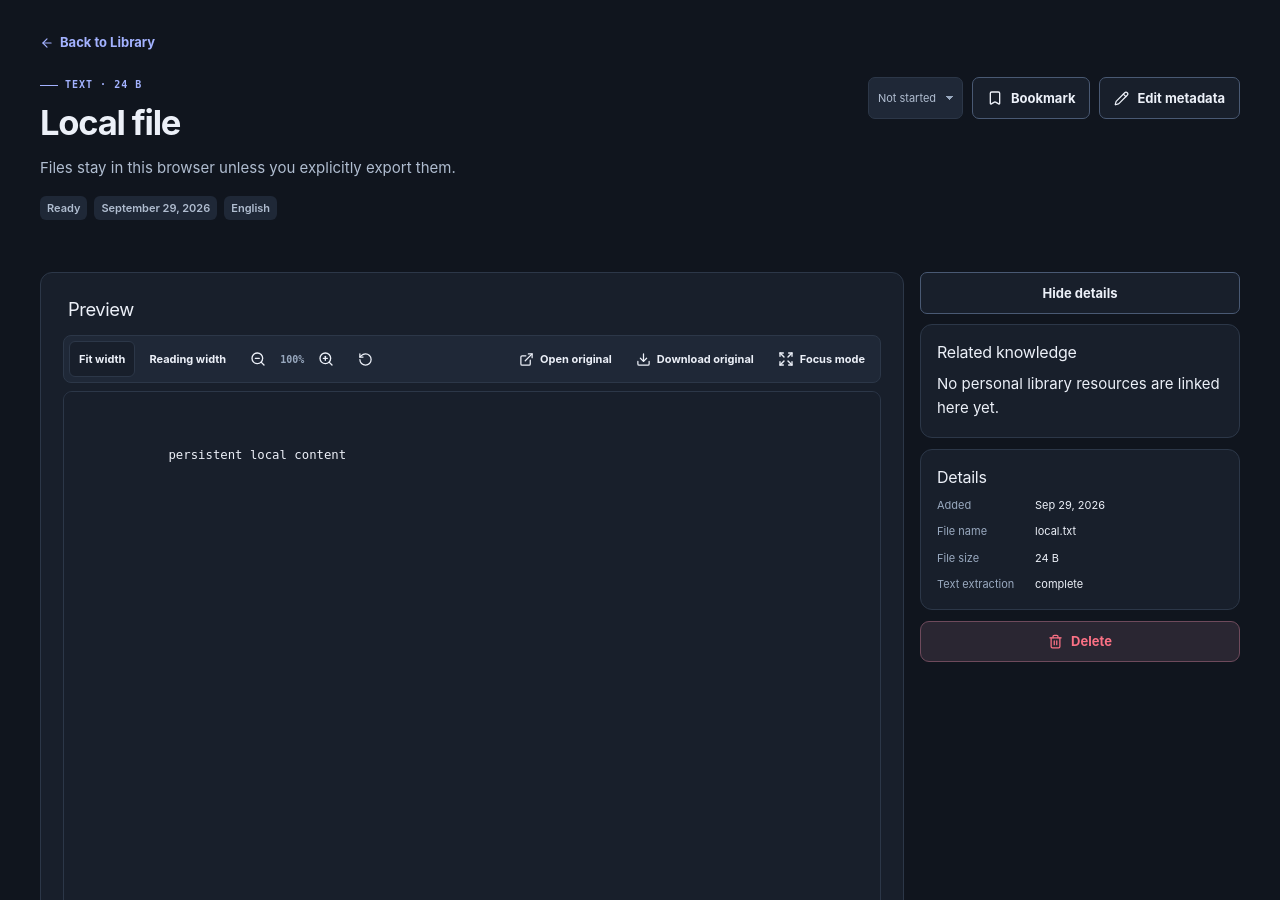
Test: library document viewer lifecycle › creates one object URL and revokes it when the viewer unmounts
expect the heading "Local file" is shown: met, box 40,102 -> 180,144
Step 1. Click the button "Hide details" → (1080, 293), box 920,272 -> 1240,314
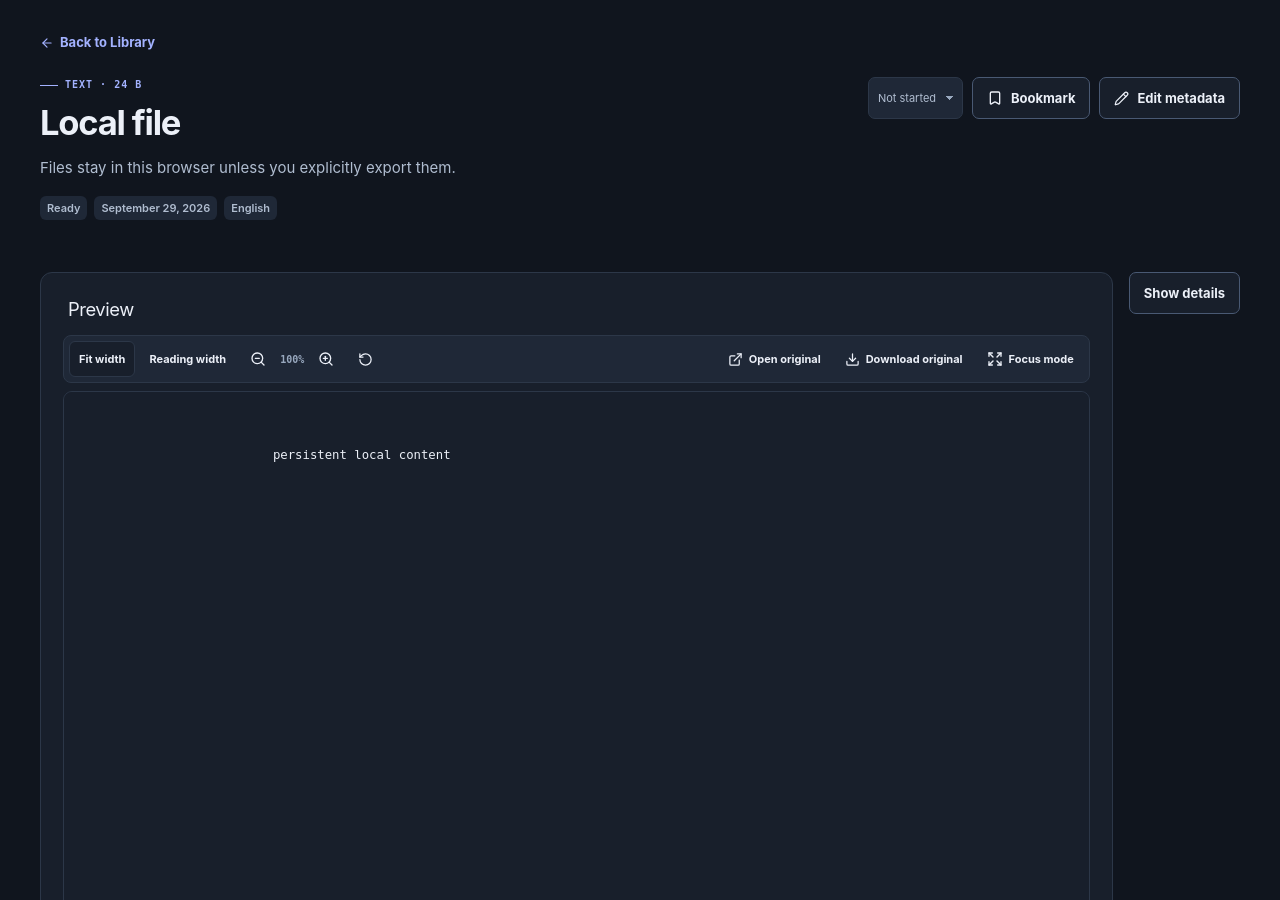
expect the button "Show details" is collapsed: met, box 1129,272 -> 1240,314
expect the heading "Related knowledge" is gone: met
